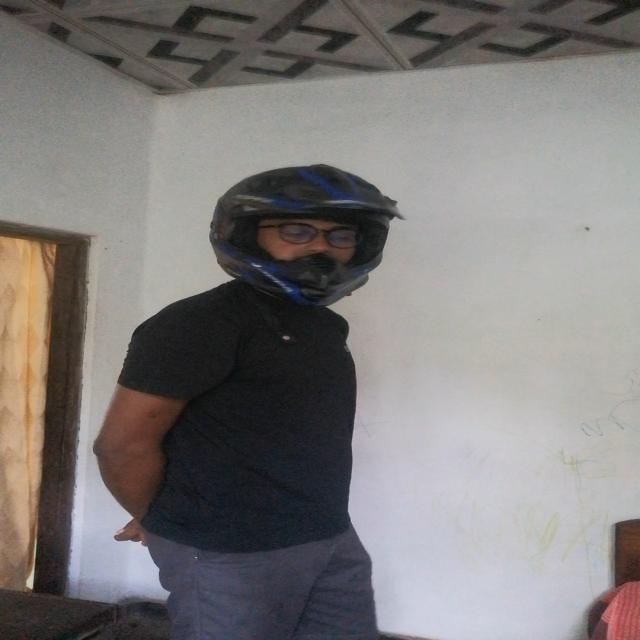Helmet_Wearer: (209, 159, 405, 312)
